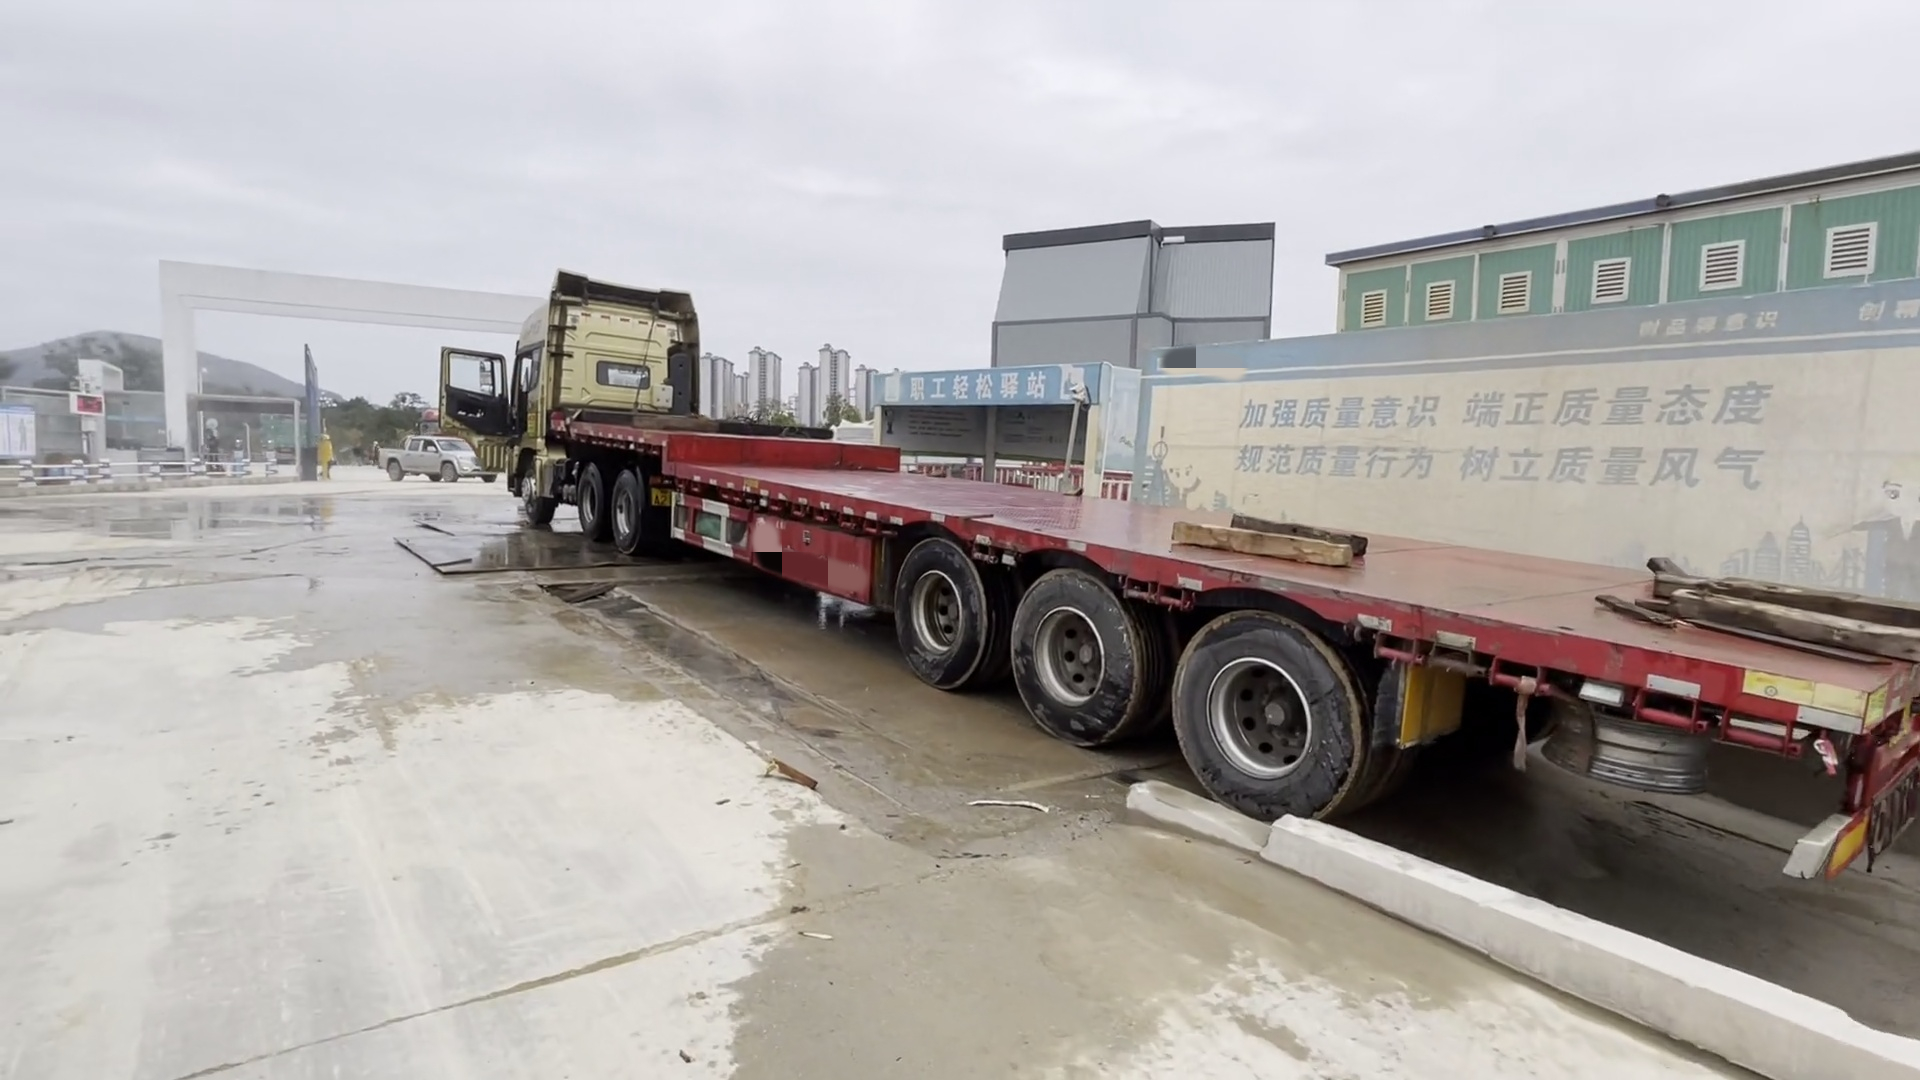slogan: (1228, 375, 1801, 513), (1634, 305, 1808, 349)
